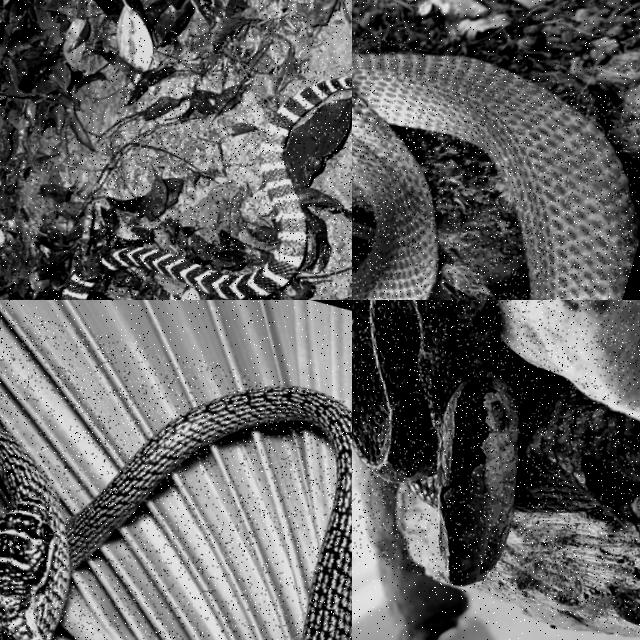Bungarus fasciatus: (102, 78, 351, 299)
Calloselasma rhodostoma: (352, 300, 639, 586)
Chrysopelea ornata: (0, 386, 351, 639)
Naja siamensis: (352, 54, 638, 299)
